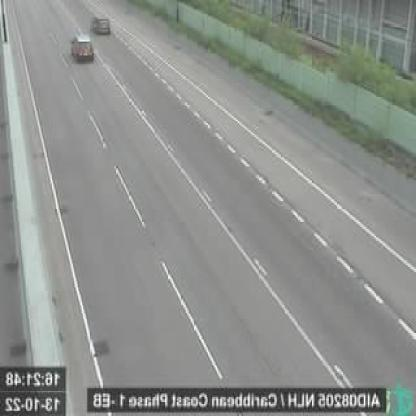Car: (71, 34, 95, 64), (92, 14, 111, 34)
